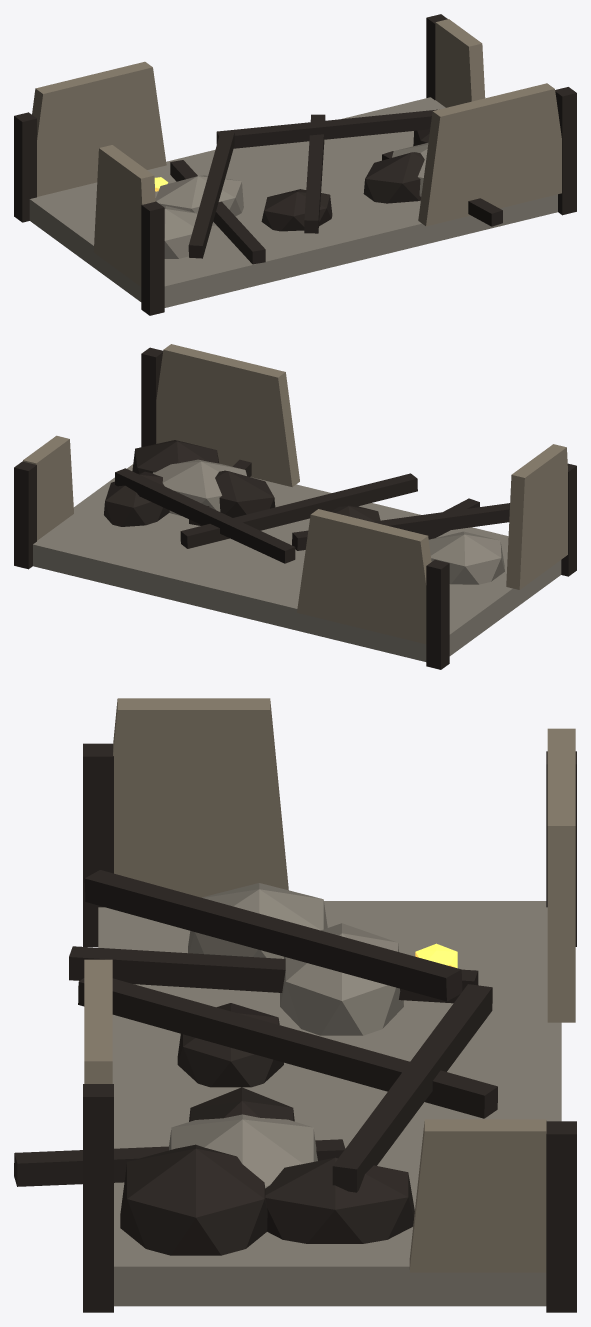
The model's file is Dorf_Zimmerei_Ruine.fbx.
3 renders of one model, top to bottom at view 1: azimuth 30°, elevation 25°; view 2: azimuth 150°, elevation 25°; view 3: azimuth 270°, elevation 25°, orthographic. The views are drawn at different scales.
Parts seen in each view (by area): view 1: Dorf_Zimmerei_Ruine; view 2: Dorf_Zimmerei_Ruine; view 3: Dorf_Zimmerei_Ruine.
Boxes of the visible parts, <box> form: Dorf_Zimmerei_Ruine: <box>14,14,576,315</box>; Dorf_Zimmerei_Ruine: <box>14,344,576,669</box>; Dorf_Zimmerei_Ruine: <box>14,698,576,1312</box>.
Bounding box in the file's own units: 6.99 × 2.16 × 4.39.
